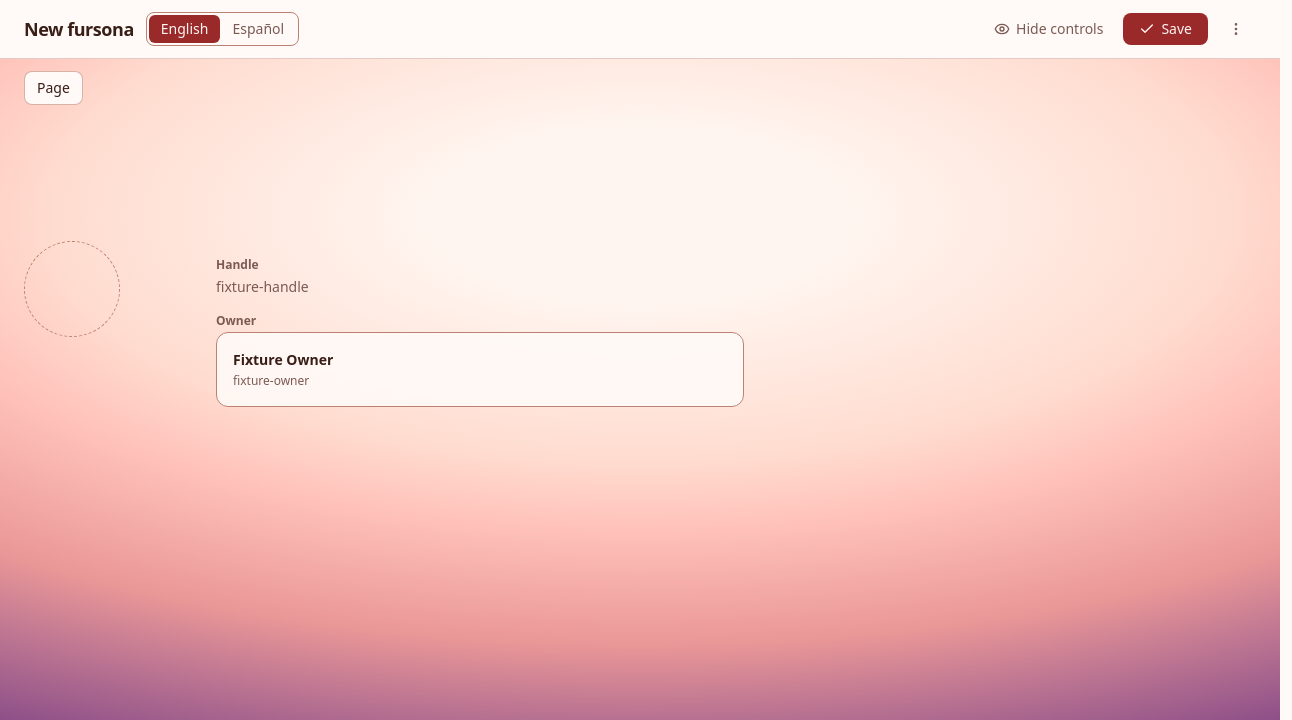
it: FursonaEditor › offers the four fields
Step 1. Click the button with test id "select-page" → [53, 88], box x1=24 y1=71 x2=83 y2=105
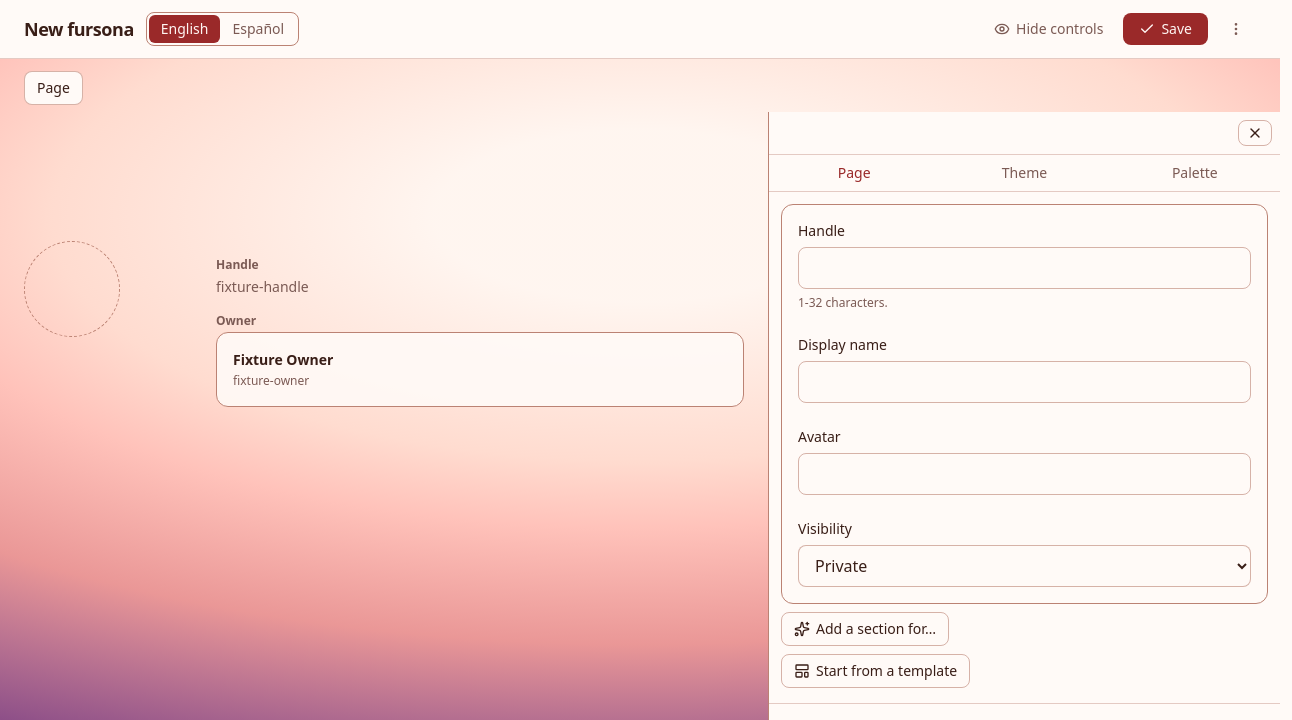
Check: the field labelled "Handle" is shown, box x1=798 y1=247 x2=1251 y2=289
Check: the field labelled "Display name" is shown, box x1=798 y1=361 x2=1251 y2=403
Check: the field labelled "Avatar" is shown, box x1=798 y1=453 x2=1251 y2=495
